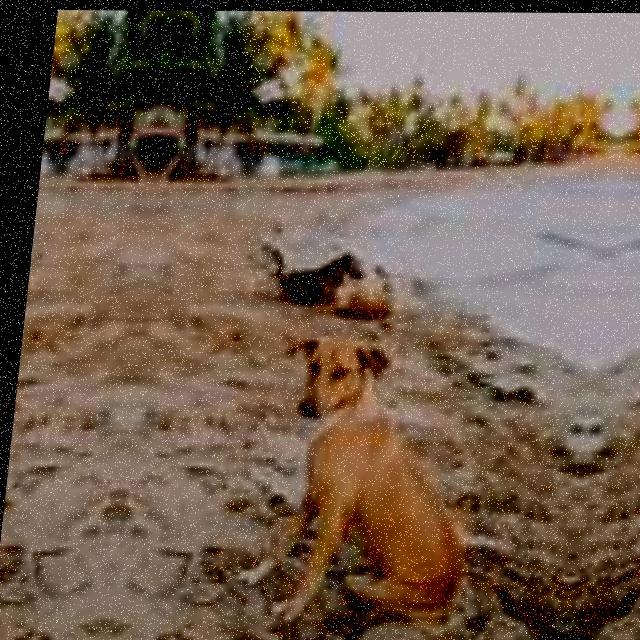dog: (198, 338, 462, 640), (0, 337, 38, 640)
